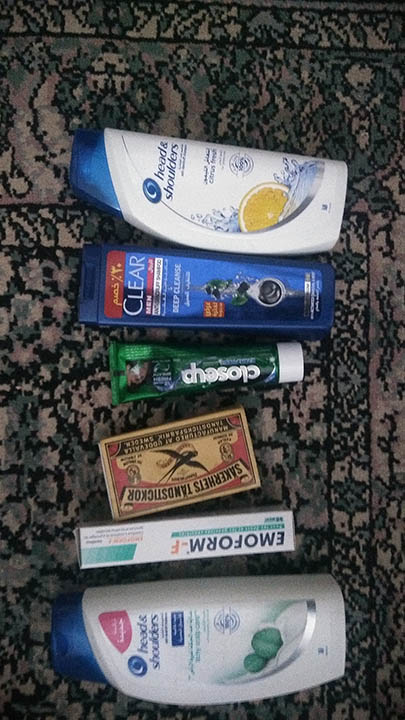Shampoo-Clear 4.7$: (68, 241, 342, 343)
Toothpaste-Closeup 3.04$: (79, 341, 325, 397)
Toothpaste-F 1.5$: (76, 519, 306, 564)
match-sticks .90$: (91, 408, 273, 510)
shampoo-Lemon 3.5$: (59, 114, 350, 253)
shampoo-green 4.5$: (45, 564, 351, 707)
